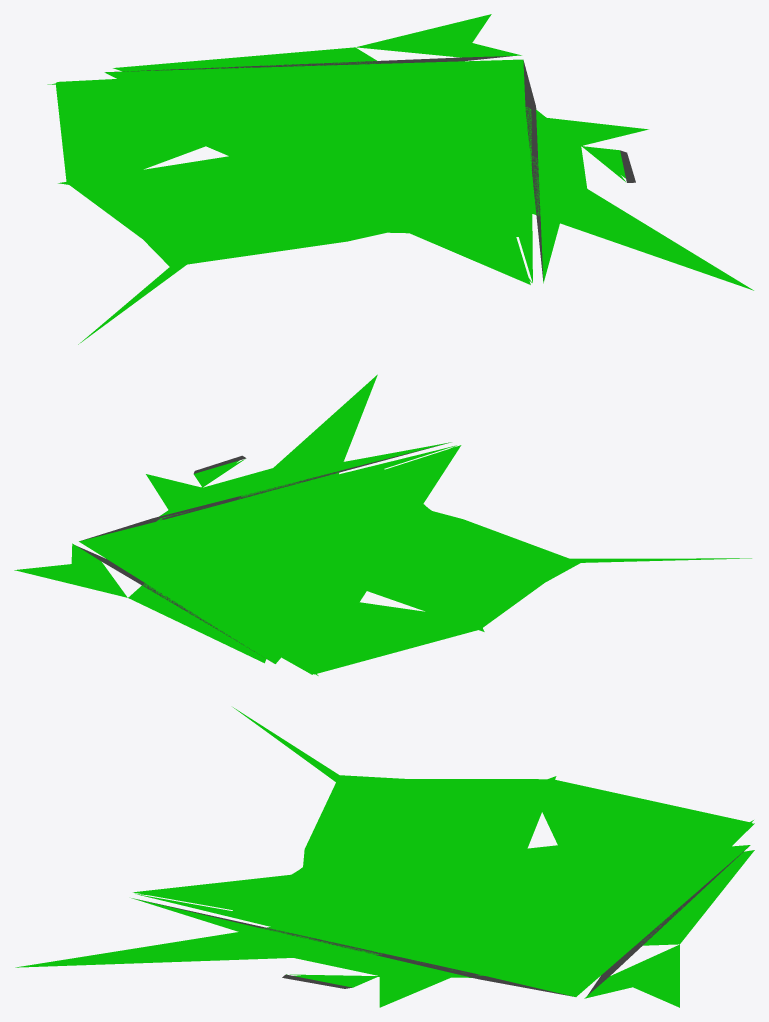
3 views of the same model, one above another, from view 1: azimuth 30°, elevation 25°; view 2: azimuth 150°, elevation 25°; view 3: azimuth 270°, elevation 25° (orthographic). The views are drawn at different scales.
Size of the model in its own units: 286 by 0 by 296.
